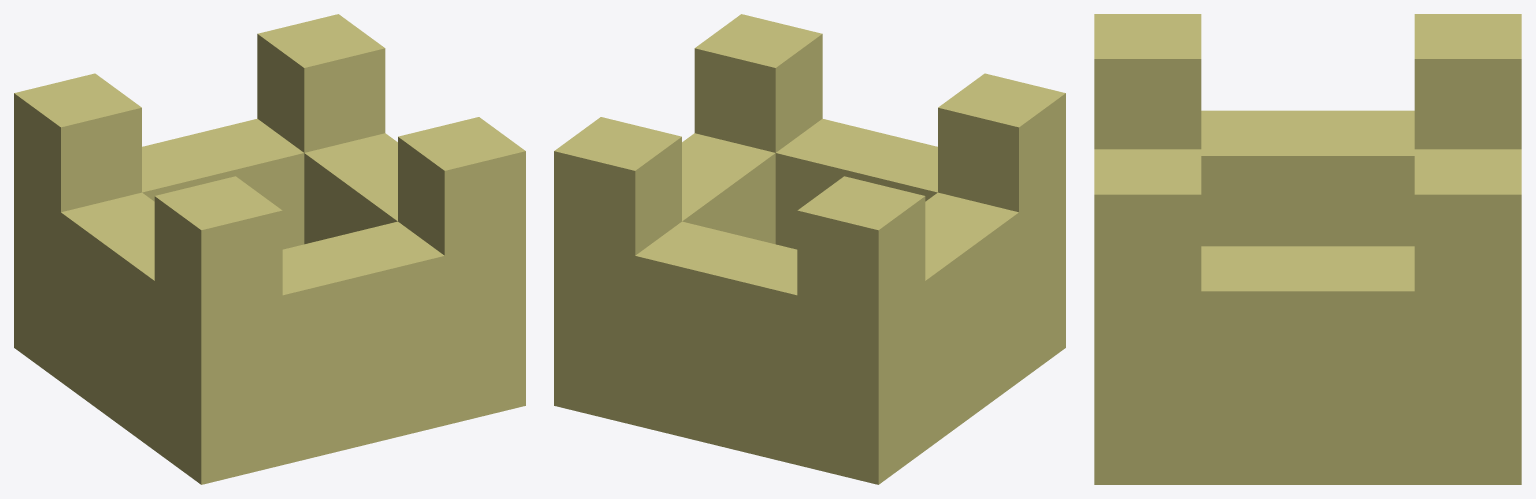
Rendered from wolfClown1.obj.
3 renders of one model, left to right at view 1: azimuth 30°, elevation 25°; view 2: azimuth 150°, elevation 25°; view 3: azimuth 270°, elevation 25°, orthographic. The views are drawn at different scales.
Size of the model in its own units: 0.4 by 0.3 by 0.4.
Materials: 1 (1 with a texture image).
